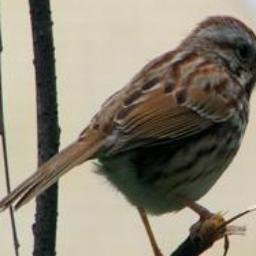Sparrow: (0, 10, 256, 256)
